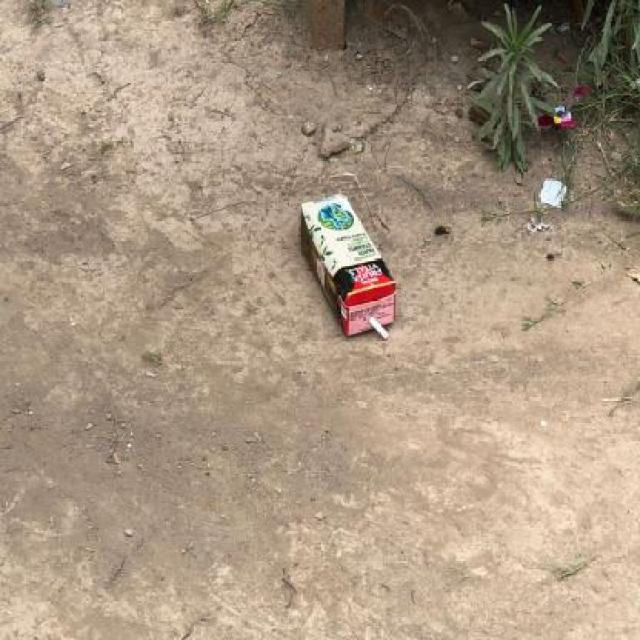garbage: (293, 185, 402, 360), (536, 177, 577, 223), (551, 93, 586, 133)
